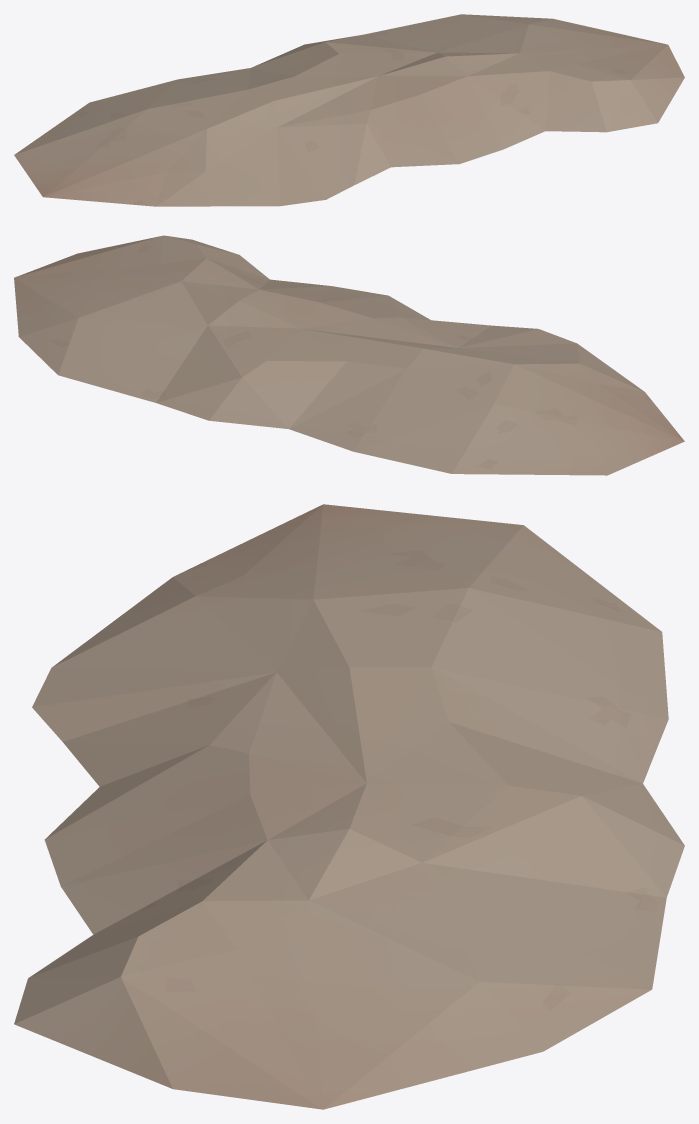
Rendered from SM_Env_Sand_Pile_03.fbx.
The picture shows the model from 3 angles, top to bottom: view 1: azimuth 30°, elevation 25°; view 2: azimuth 150°, elevation 25°; view 3: azimuth 270°, elevation 25°; orthographic projection. The views are drawn at different scales.
Visible parts, largest first — view 1: SM_Env_Sand_Pile_03; view 2: SM_Env_Sand_Pile_03; view 3: SM_Env_Sand_Pile_03.
Part boxes in pixels (x1,y1,x2,y2): SM_Env_Sand_Pile_03: [14, 14, 684, 206]; SM_Env_Sand_Pile_03: [14, 235, 684, 475]; SM_Env_Sand_Pile_03: [14, 504, 684, 1109].
Bounding box in the file's own units: 811 × 44.69 × 380.
